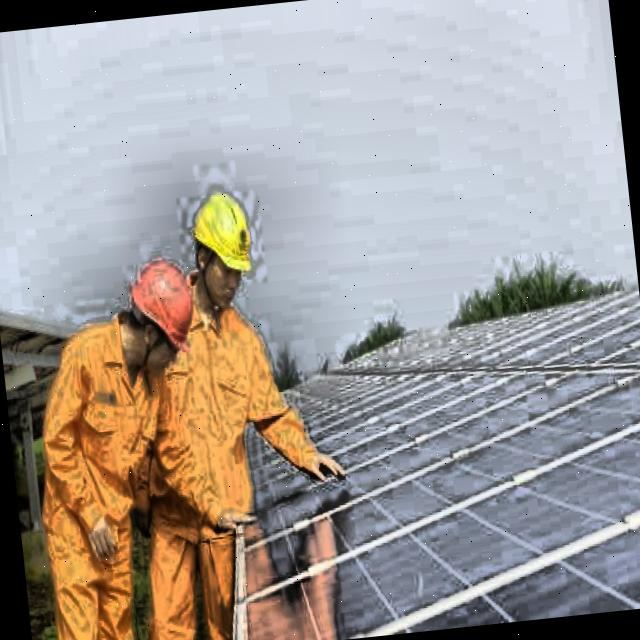helmet: (109, 247, 210, 391), (181, 176, 264, 322)
